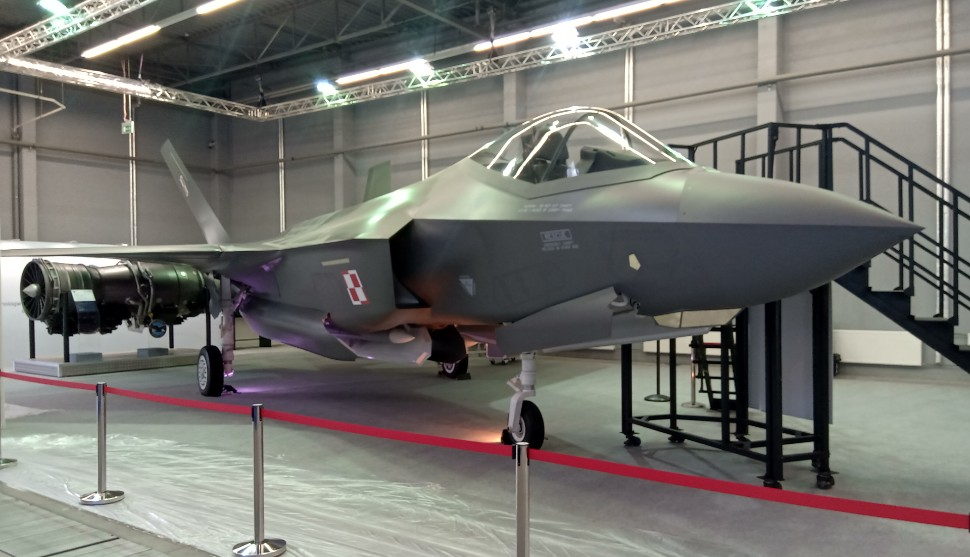F-35 Lightning: (7, 81, 941, 503)
